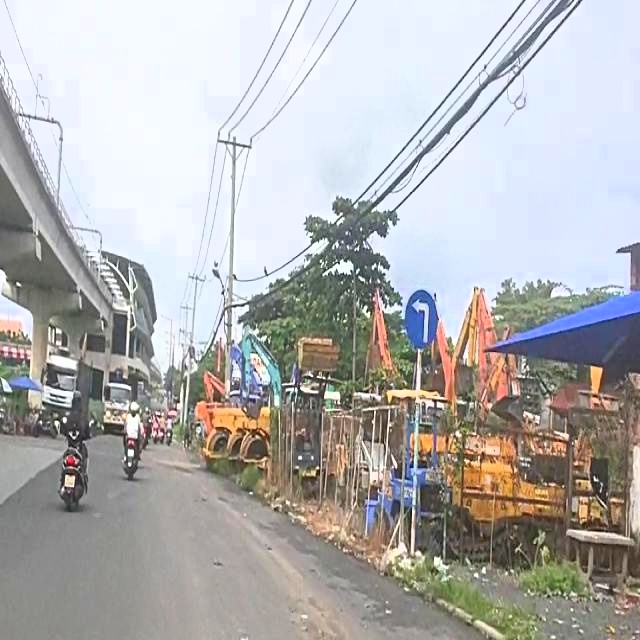R.301e: (406, 287, 438, 352)
